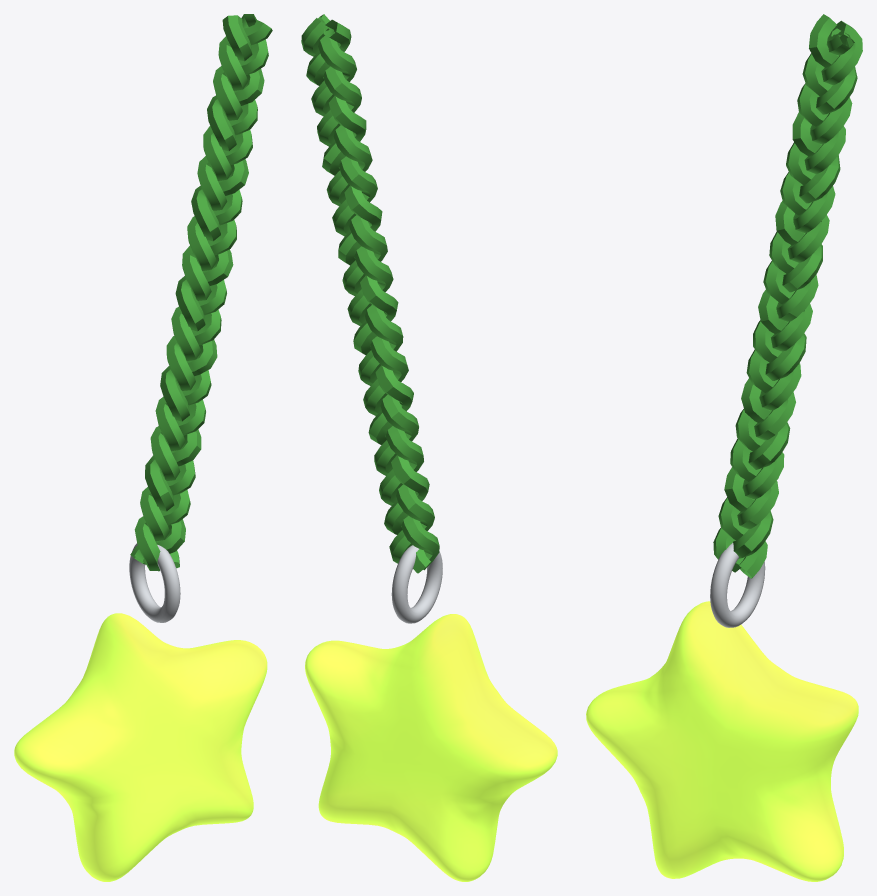
File: charm-star.glb
The picture shows the model from 3 angles, left to right: view 1: azimuth 30°, elevation 25°; view 2: azimuth 150°, elevation 25°; view 3: azimuth 330°, elevation 25°; orthographic projection. The views are drawn at different scales.
Visible parts, largest first — view 1: pendant_body, strap; view 2: pendant_body, strap; view 3: pendant_body, strap.
Boxes of the visible parts, x1,y1,x2,y2 form: pendant_body: (14,543,267,881); strap: (130,14,272,571); pendant_body: (305,545,557,881); strap: (301,14,439,573); pendant_body: (586,543,858,881); strap: (713,14,862,578).
Bounding box in the file's own units: 1.44 × 4.64 × 0.48.
